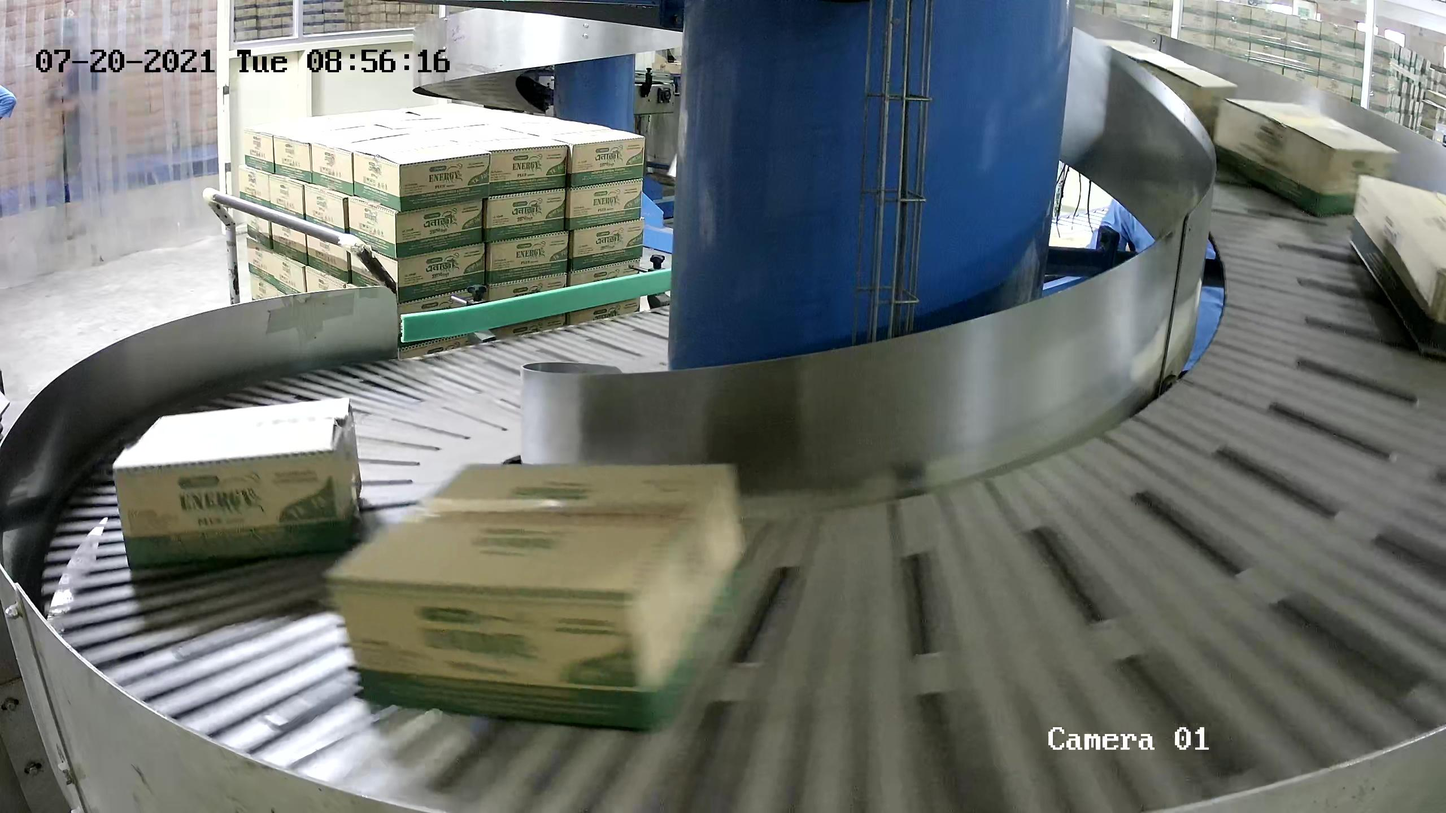Box: (323, 456, 755, 736), (109, 393, 364, 573), (1212, 93, 1399, 219), (1345, 170, 1446, 360), (1093, 38, 1239, 142)
